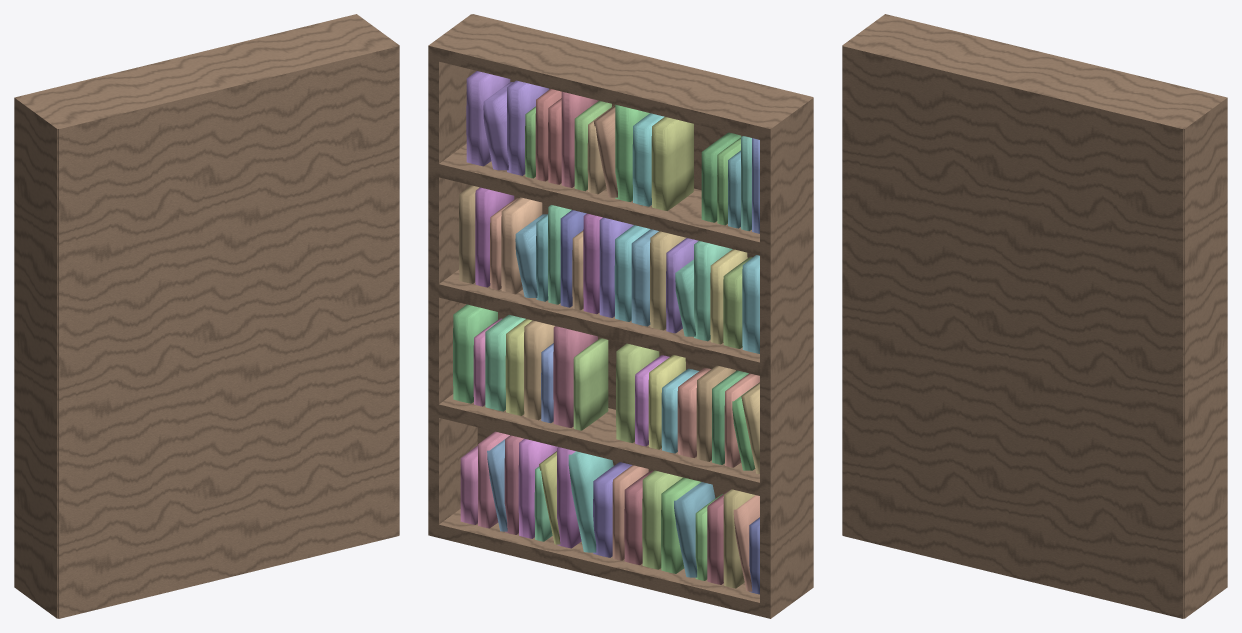
Rendered from bookshelf.glb.
3 views of the same model, side by side, from view 1: azimuth 30°, elevation 25°; view 2: azimuth 150°, elevation 25°; view 3: azimuth 330°, elevation 25° (orthographic).
Visible parts, largest first — view 1: bookshelf_body; view 2: bookshelf_body; view 3: bookshelf_body.
Boxes of the visible parts, <box> form: bookshelf_body: <box>14,14,399,618</box>; bookshelf_body: <box>428,14,813,618</box>; bookshelf_body: <box>842,14,1227,618</box>.
Bounding box in the file's own units: 1.61 × 2.2 × 0.355.
Materials: 78 (78 with a texture image).
